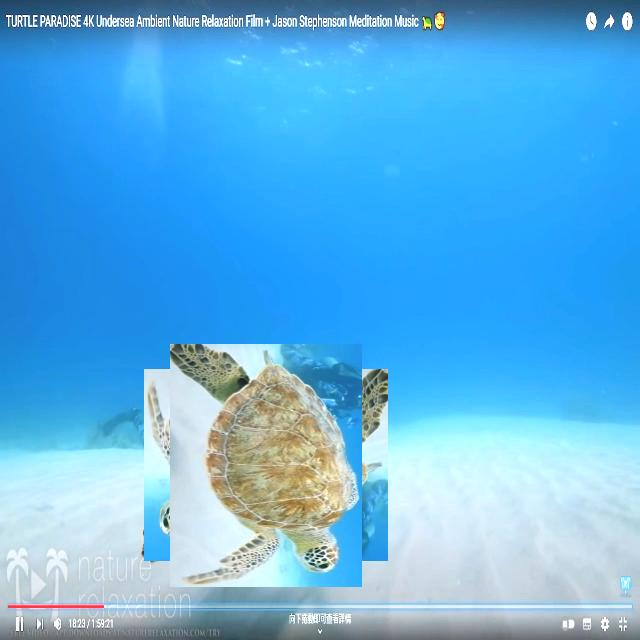Sea turtle: (157, 356, 375, 574)
